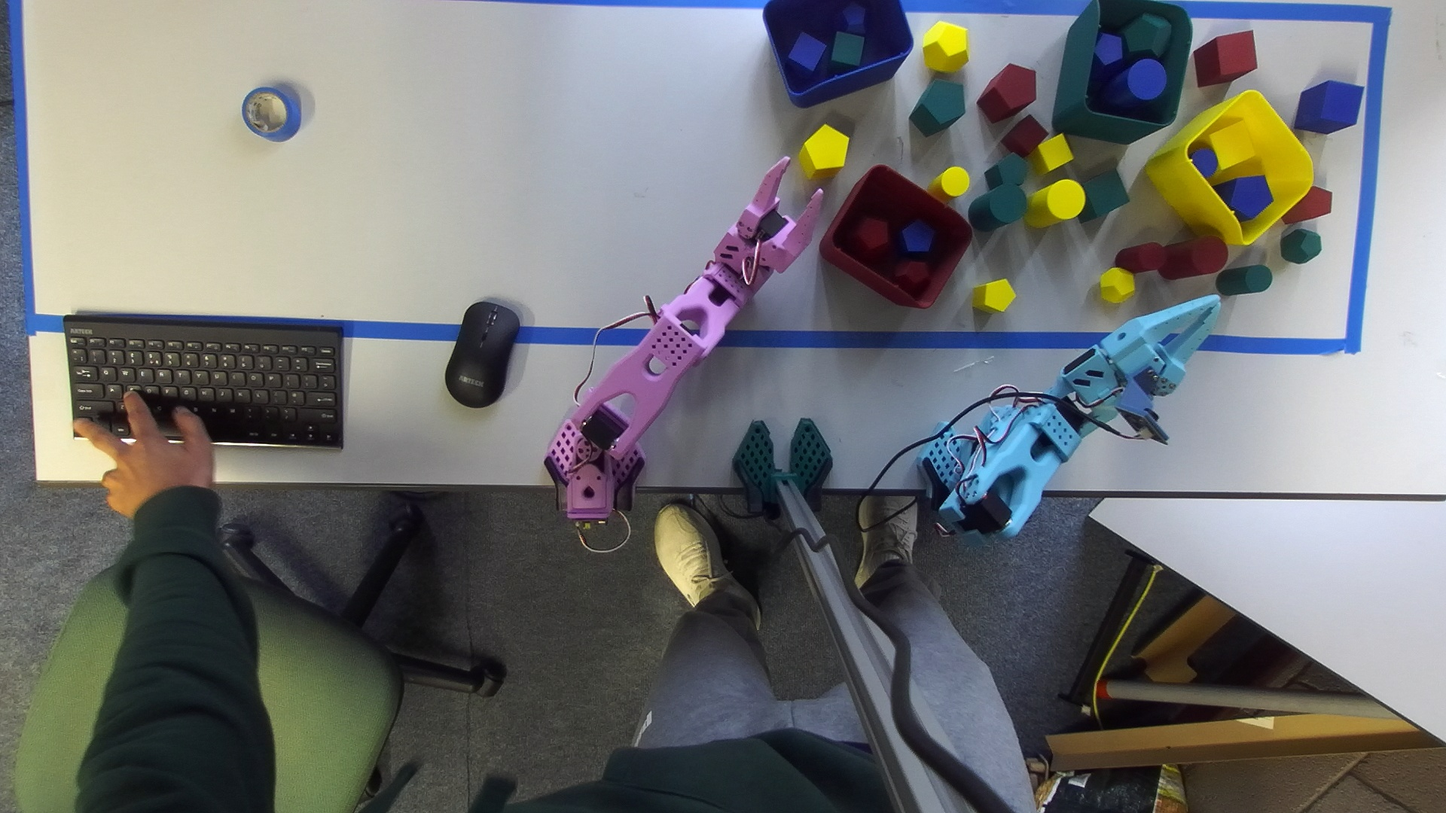bin: (1145, 90, 1313, 245), (819, 165, 972, 308), (1051, 0, 1191, 144), (763, 0, 913, 107)
cube: (1292, 81, 1363, 133), (1193, 30, 1257, 87), (1078, 169, 1128, 224), (1208, 120, 1254, 169), (1001, 114, 1047, 158), (1030, 134, 1072, 174), (789, 32, 825, 70), (831, 32, 864, 65)
cylinder: (1105, 59, 1166, 107), (1025, 179, 1085, 227), (1160, 237, 1228, 279), (968, 184, 1027, 230), (1216, 265, 1272, 295), (926, 166, 970, 202), (1115, 242, 1166, 273), (1190, 148, 1218, 178)
dodecahedron: (923, 21, 969, 72), (847, 216, 889, 263), (1124, 14, 1170, 56), (1280, 227, 1321, 263), (892, 260, 930, 297), (898, 219, 935, 253), (1100, 267, 1134, 303), (1094, 32, 1123, 65), (841, 5, 865, 34)
gripper: (1060, 294, 1220, 443), (712, 157, 823, 297)
hexagonal: (977, 64, 1036, 122), (910, 78, 965, 136), (798, 123, 849, 178), (1216, 175, 1272, 221), (1282, 185, 1332, 224), (984, 154, 1027, 190), (972, 279, 1015, 312)
